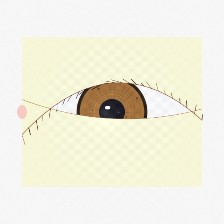pinguecula_lesion: (14, 103, 62, 141)
